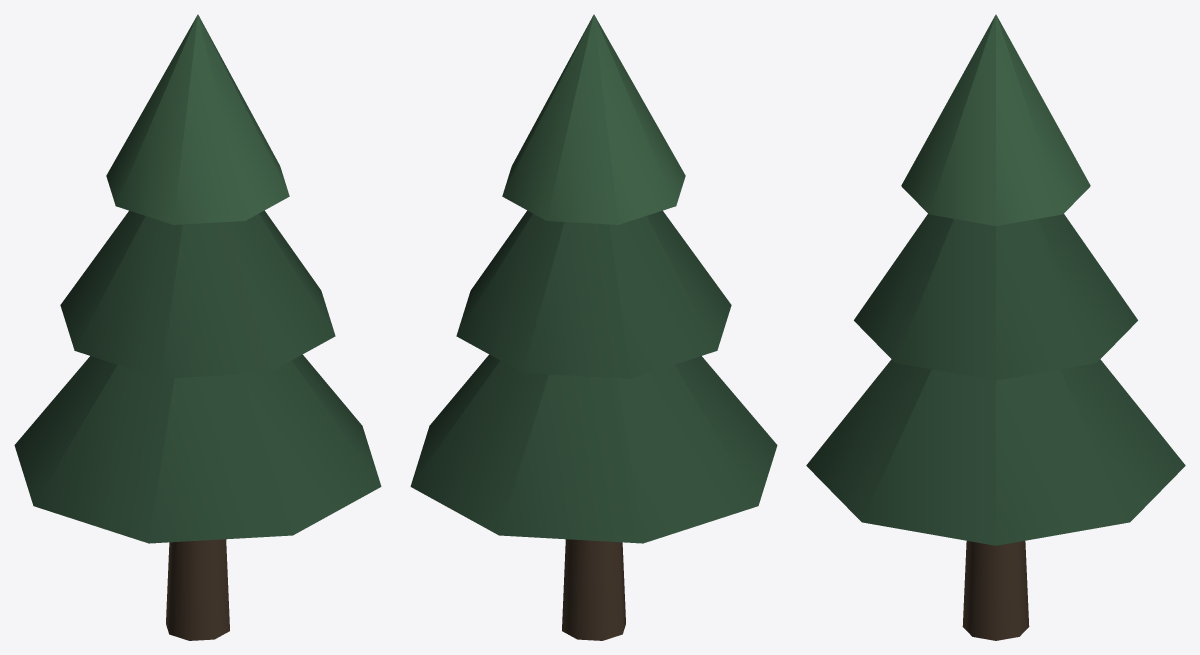
Rendered from tree.glb.
3 renders of one model, left to right at view 1: azimuth 30°, elevation 25°; view 2: azimuth 150°, elevation 25°; view 3: azimuth 270°, elevation 25°, orthographic.
Parts seen in each view (by area): view 1: Leaves1, Leaves2, Leaves3, Trunk; view 2: Leaves1, Leaves2, Leaves3, Trunk; view 3: Leaves1, Leaves2, Leaves3, Trunk.
Part boxes in pixels (x1,y1,x2,y2): Leaves1: (14, 354, 381, 543); Leaves2: (60, 210, 335, 378); Leaves3: (106, 14, 289, 224); Trunk: (166, 539, 229, 640); Leaves1: (410, 354, 777, 543); Leaves2: (456, 210, 731, 378); Leaves3: (502, 14, 685, 224); Trunk: (562, 539, 625, 640); Leaves1: (806, 359, 1185, 545); Leaves2: (854, 214, 1137, 380); Leaves3: (901, 14, 1090, 225); Trunk: (962, 541, 1029, 640).
Size of the model in its own units: 3.2 by 5.7 by 3.2.
